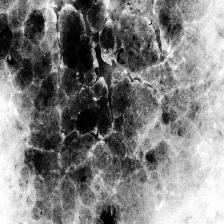Benign Marking or Mole: (0, 0, 207, 224)
